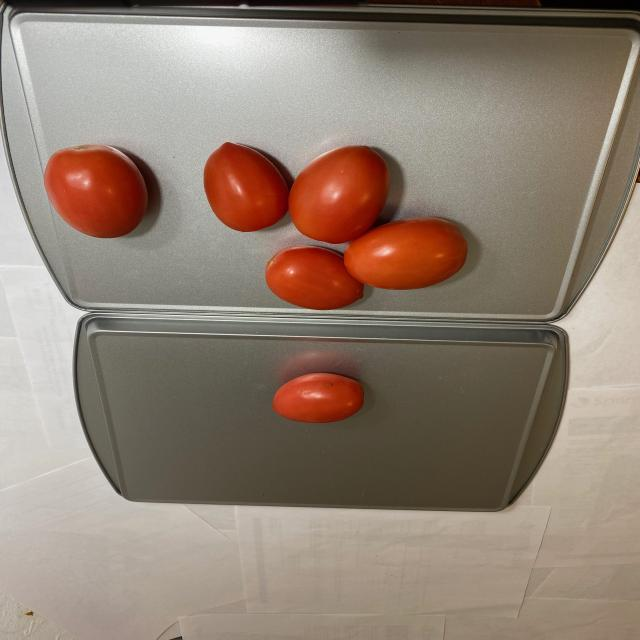tomato: (198, 140, 471, 307), (38, 135, 152, 241), (264, 368, 372, 422)
